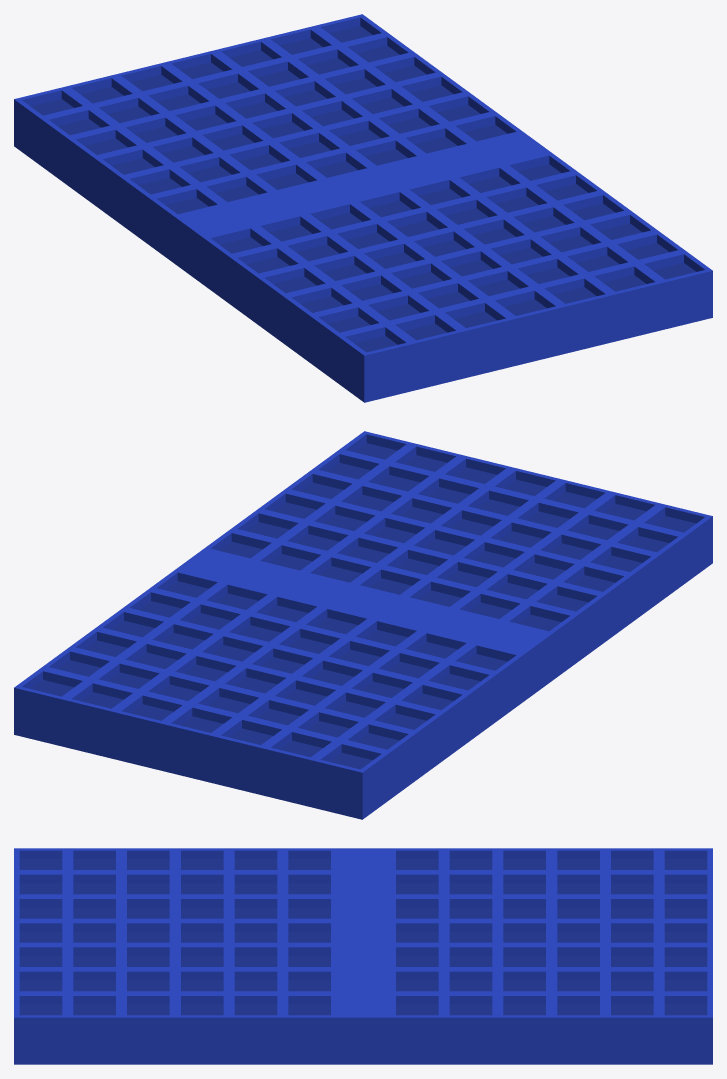
Rendered from SolarPanel.fbx.
3 views of the same model, one above another, from view 1: azimuth 30°, elevation 25°; view 2: azimuth 150°, elevation 25°; view 3: azimuth 270°, elevation 25° (orthographic).
Parts seen in each view (by area): view 1: Panel; view 2: Panel; view 3: Panel.
Part boxes in pixels (x1,y1,x2,y2): Panel: (14,14,712,402); Panel: (14,431,712,819); Panel: (14,848,712,1064).
Size of the model in its own units: 165 by 21.3 by 287.
